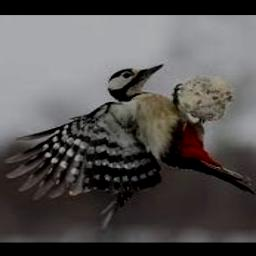Woodpecker: (4, 64, 256, 228)
